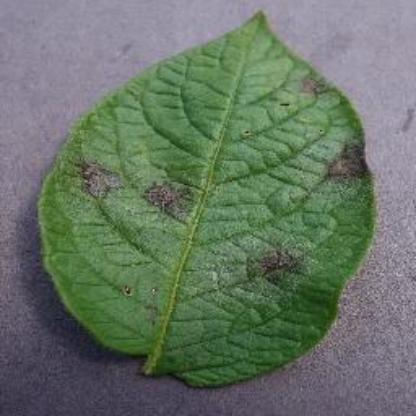Late-Blight: (34, 10, 384, 390)
